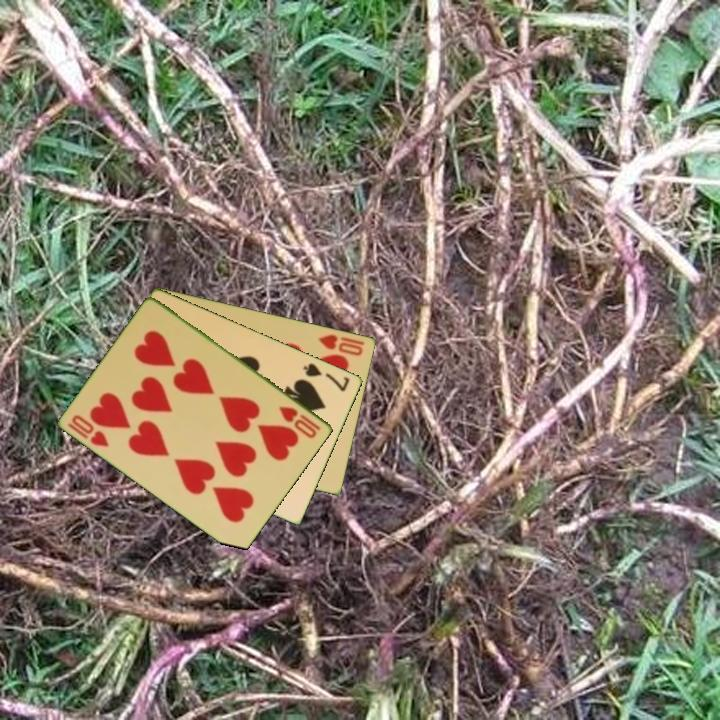10h: (276, 402, 324, 441), (64, 411, 112, 450), (315, 331, 367, 359)
7s: (300, 359, 353, 394)
